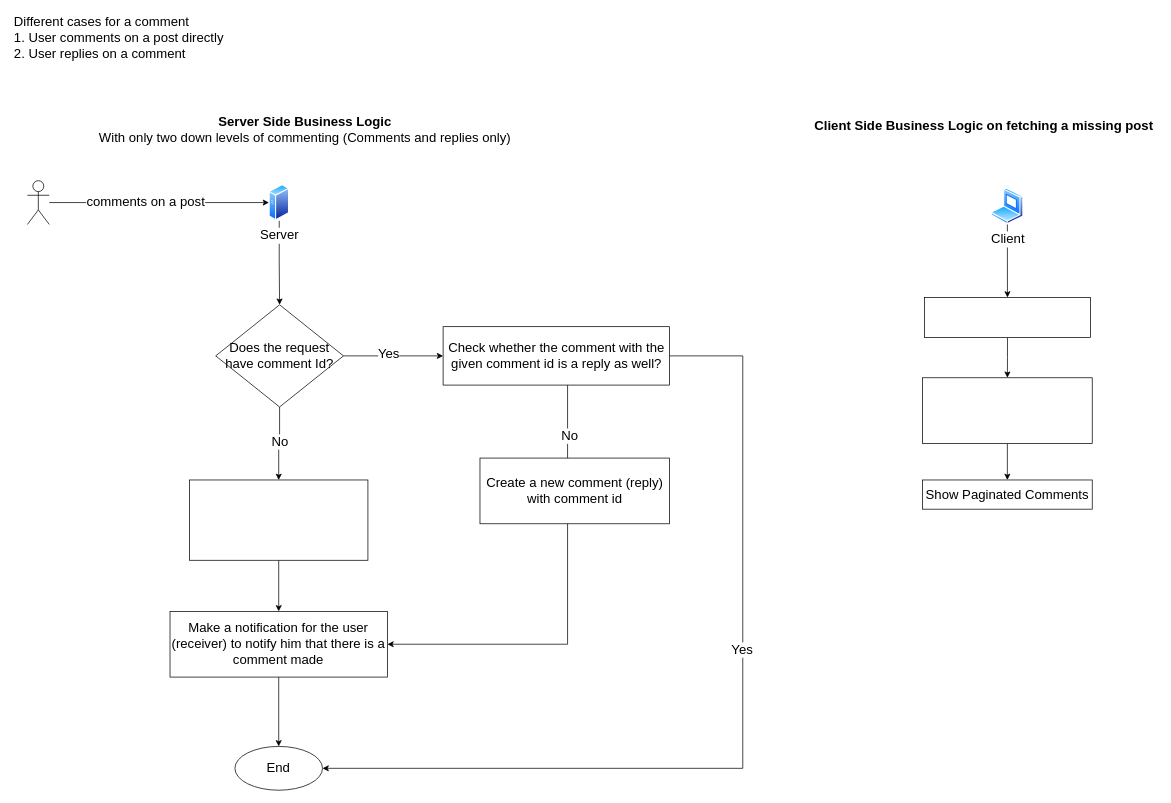
The diagram is 1171 pixels wide and 803 high, and some of its shapes have lost their labels. The centre of each missing label's shape, as x and y in pixels:
"Create a new comment with null comment Id" belongs at point 278,519.
"Fetches all the comment related to the post and group by comment ID" belongs at point 1007,410.
"Fetches the post content and comment" belongs at point 1007,317.
"User" belongs at point 38,202.
